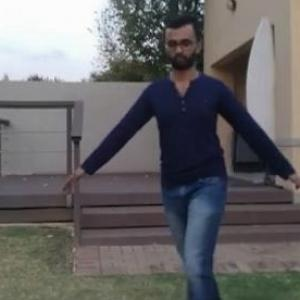land: (80, 21, 299, 299)
